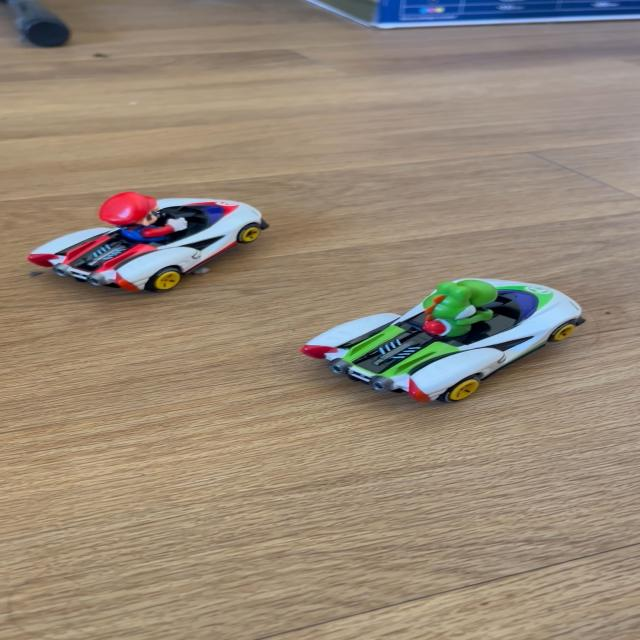mario: (13, 185, 277, 299)
yoshi: (288, 264, 591, 407)
